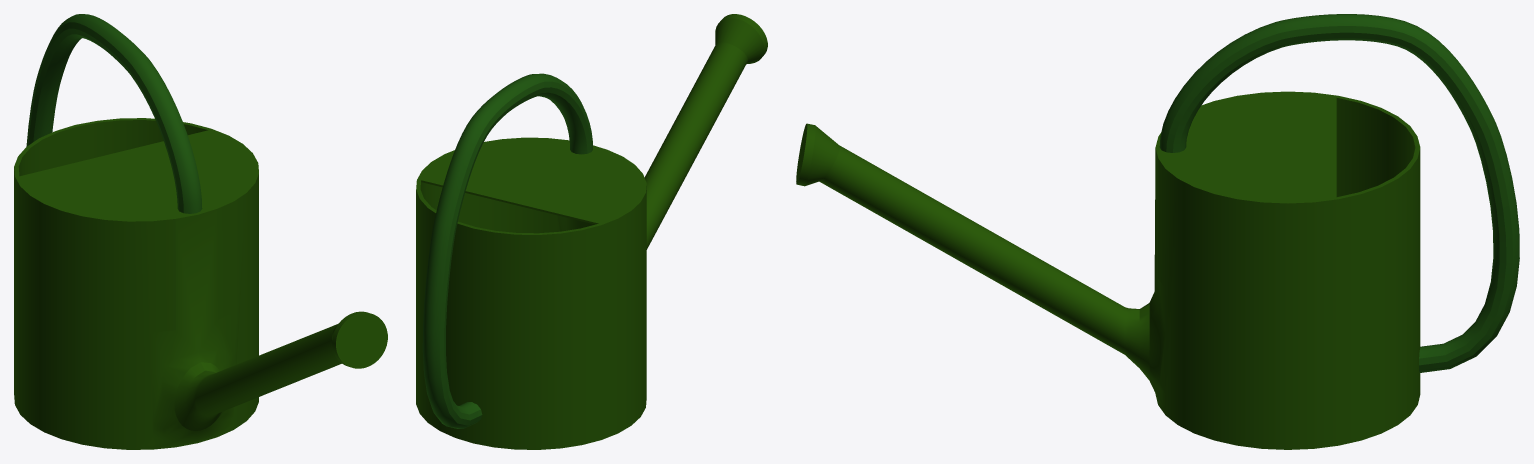
Rendered from WateringCanUV2.fbx.
The picture shows the model from 3 angles, left to right: view 1: azimuth 30°, elevation 25°; view 2: azimuth 150°, elevation 25°; view 3: azimuth 270°, elevation 25°; orthographic projection. The views are drawn at different scales.
Visible parts, largest first — view 1: WateringCan; view 2: WateringCan; view 3: WateringCan.
Boxes of the visible parts, x1,y1,x2,y2 form: WateringCan: (14, 14, 387, 449); WateringCan: (416, 14, 767, 449); WateringCan: (796, 14, 1519, 449).
Size of the model in its own units: 0.3849 by 1.05 by 0.6071.
